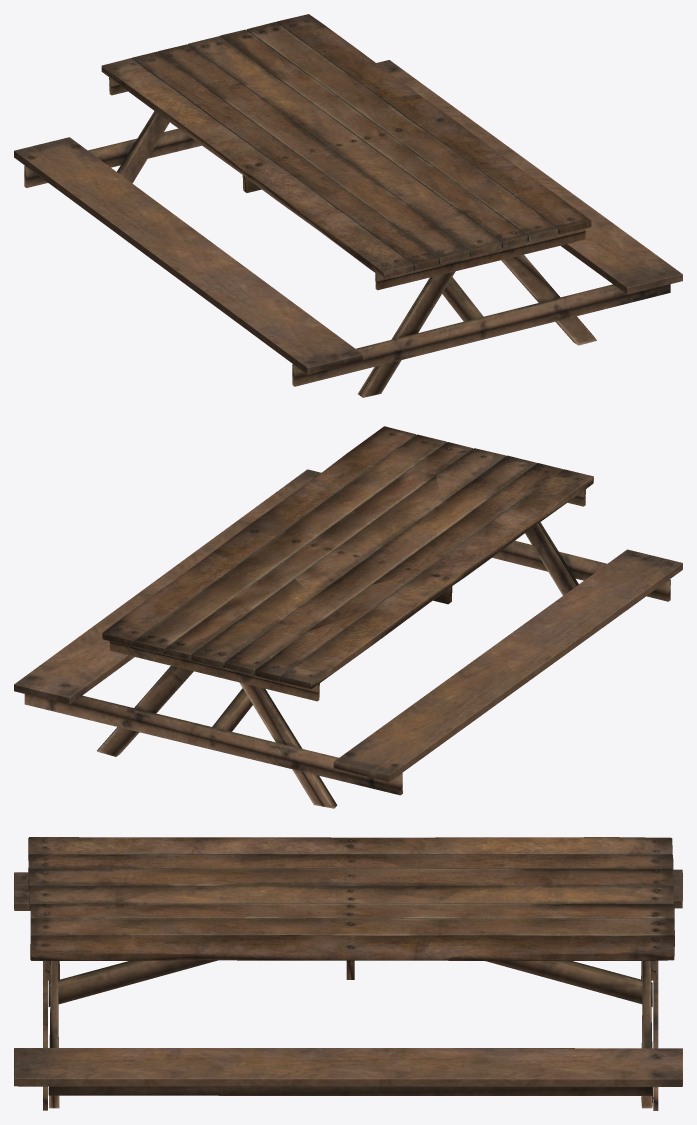
Rendered from picnic_table.glb.
3 views of the same model, one above another, from view 1: azimuth 30°, elevation 25°; view 2: azimuth 150°, elevation 25°; view 3: azimuth 270°, elevation 25° (orthographic). The views are drawn at different scales.
Visible parts, largest first — view 1: wooden_picnic_table; view 2: wooden_picnic_table; view 3: wooden_picnic_table.
Part boxes in pixels (bbox=[...]): wooden_picnic_table: bbox=[14, 14, 682, 397]; wooden_picnic_table: bbox=[14, 426, 682, 808]; wooden_picnic_table: bbox=[14, 837, 682, 1110].
Bounding box in the file's own units: 2.24 × 0.7452 × 3.02.
Materials: 2 (2 with a texture image).
